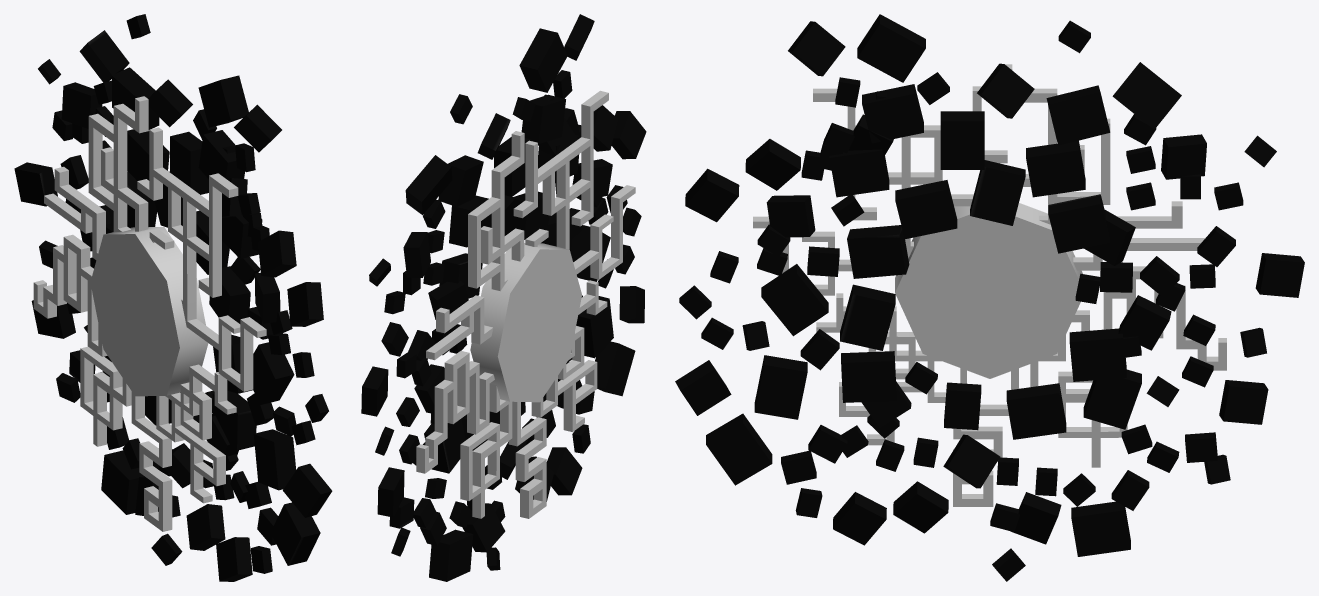
Rendered from VORTEX___.FBX.
The picture shows the model from 3 angles, left to right: view 1: azimuth 30°, elevation 25°; view 2: azimuth 150°, elevation 25°; view 3: azimuth 270°, elevation 25°; orthographic projection. The views are drawn at different scales.
Visible parts, largest first — view 1: VORTEX_CUBOS, VORTEX_LINEAS; view 2: VORTEX_CUBOS, VORTEX_LINEAS; view 3: VORTEX_CUBOS, VORTEX_LINEAS.
Part boxes in pixels (x1,y1,x2,y2): VORTEX_CUBOS: (14,14,332,581); VORTEX_LINEAS: (33,96,266,531); VORTEX_CUBOS: (361,14,646,581); VORTEX_LINEAS: (416,90,635,518); VORTEX_CUBOS: (675,14,1304,581); VORTEX_LINEAS: (753,64,1226,506).
Bounding box in the file's own units: 80.11 × 632 × 642.
